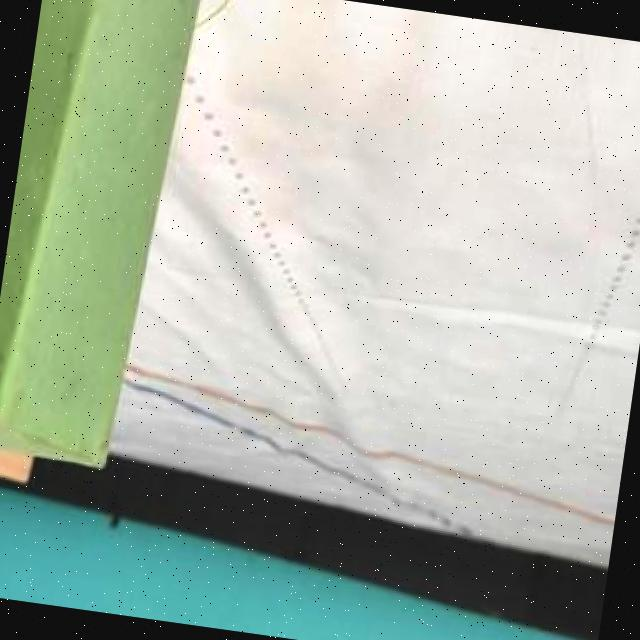greenbox: (0, 0, 209, 478)
